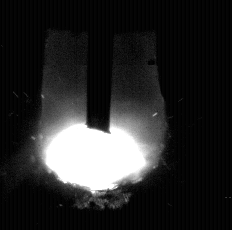arame: (86, 0, 112, 133)
poca: (37, 0, 164, 230)
